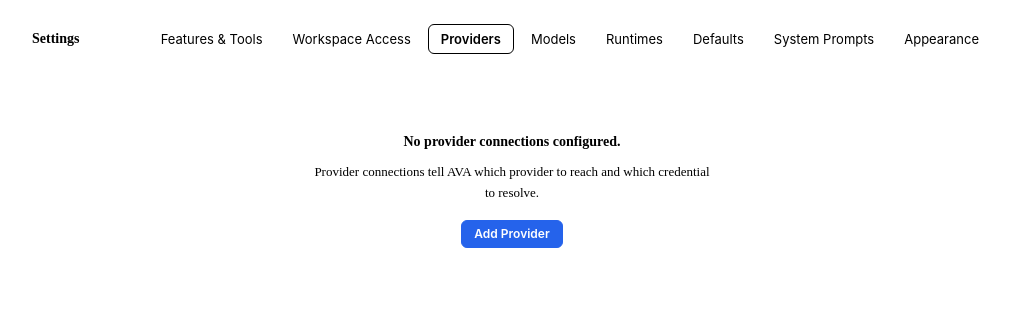
Test: Runtimes inventory actions › offers Add Runtime, including when the inventory is empty
What coordinates should you click on to do the following:
click the tab "Runtimes"
I would click on:
 (634, 39)
Its box is top-left (593, 24), bottom-right (676, 54).
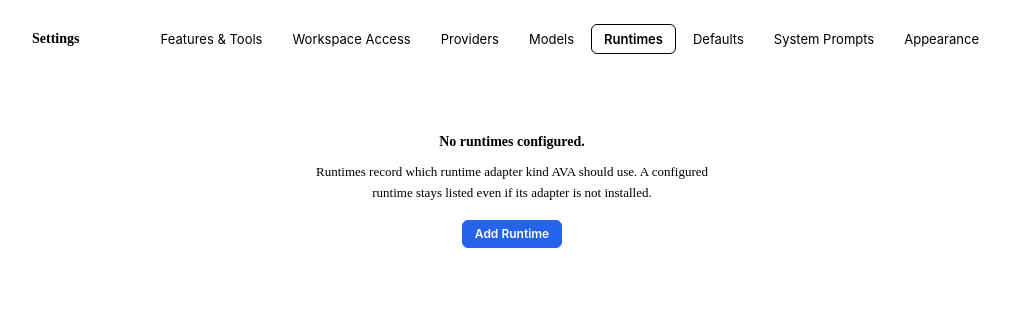
Check: the button "Add Runtime" is shown, box top-left (462, 220), bottom-right (562, 248)
